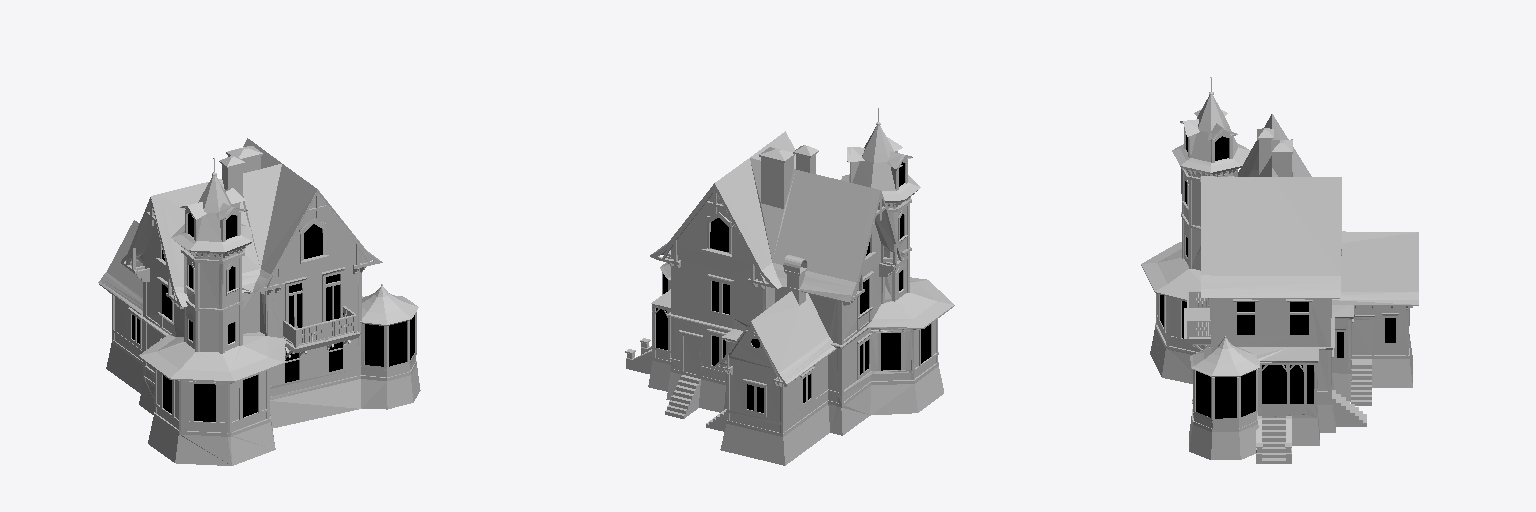
The model's file is NikkisHus.obj.
3 views of the same model, side by side, from view 1: azimuth 30°, elevation 25°; view 2: azimuth 150°, elevation 25°; view 3: azimuth 270°, elevation 25° (orthographic).
Parts seen in each view (by area): view 1: pasted__pCube45; view 2: pasted__pCube45; view 3: pasted__pCube45.
Boxes of the visible parts, box(x1,y1,x2,y2) form: pasted__pCube45: box(98, 138, 420, 465); pasted__pCube45: box(625, 108, 954, 465); pasted__pCube45: box(1141, 77, 1418, 463).
Bounding box in the file's own units: 19.93 × 19.77 × 17.58.